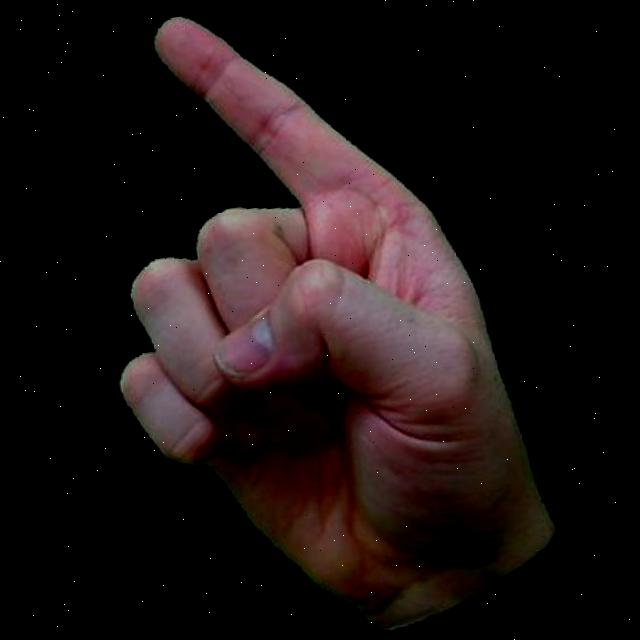z: (57, 0, 578, 640)
